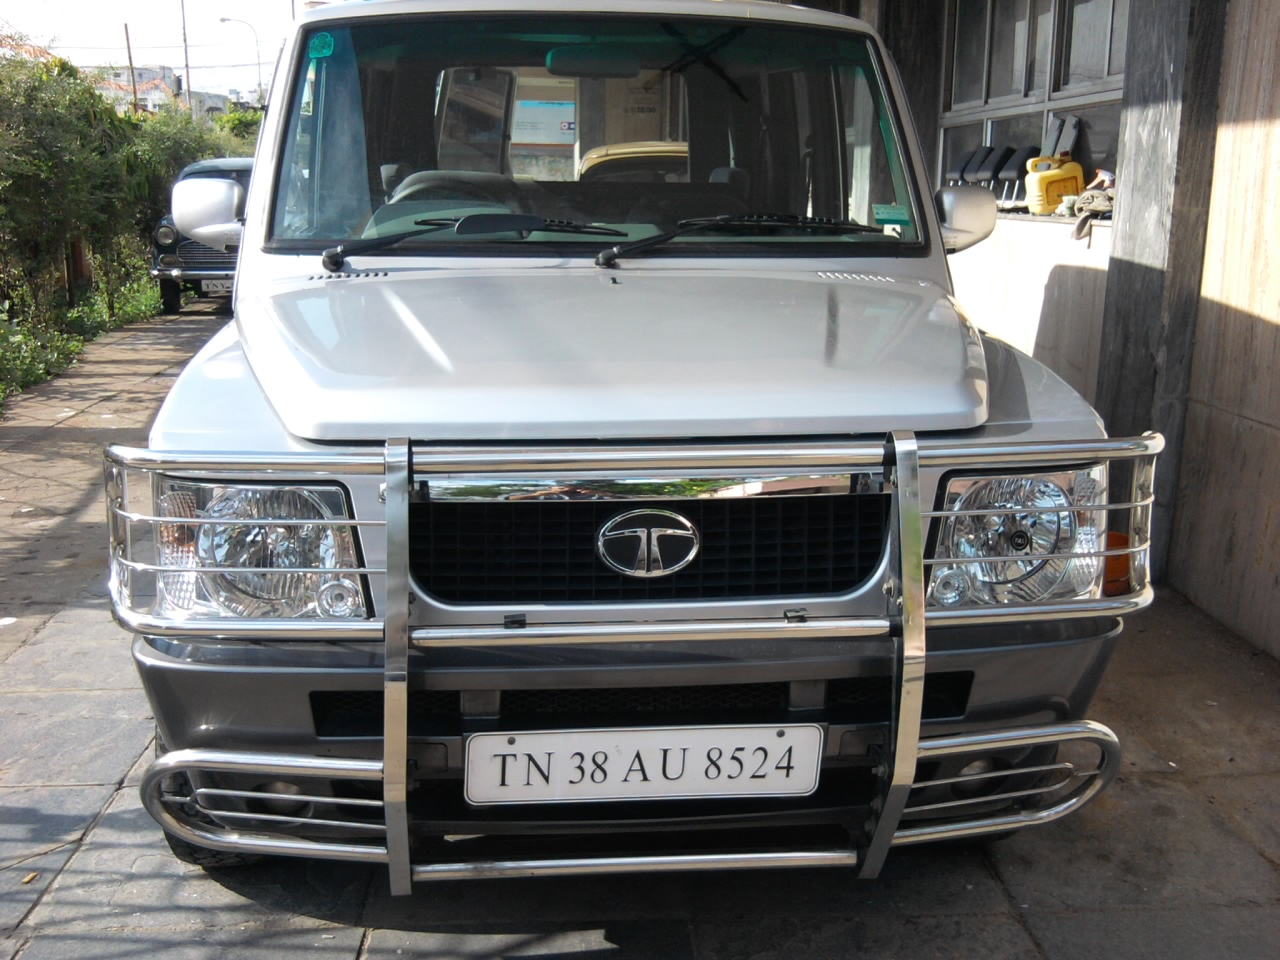T: (487, 748, 523, 795)
